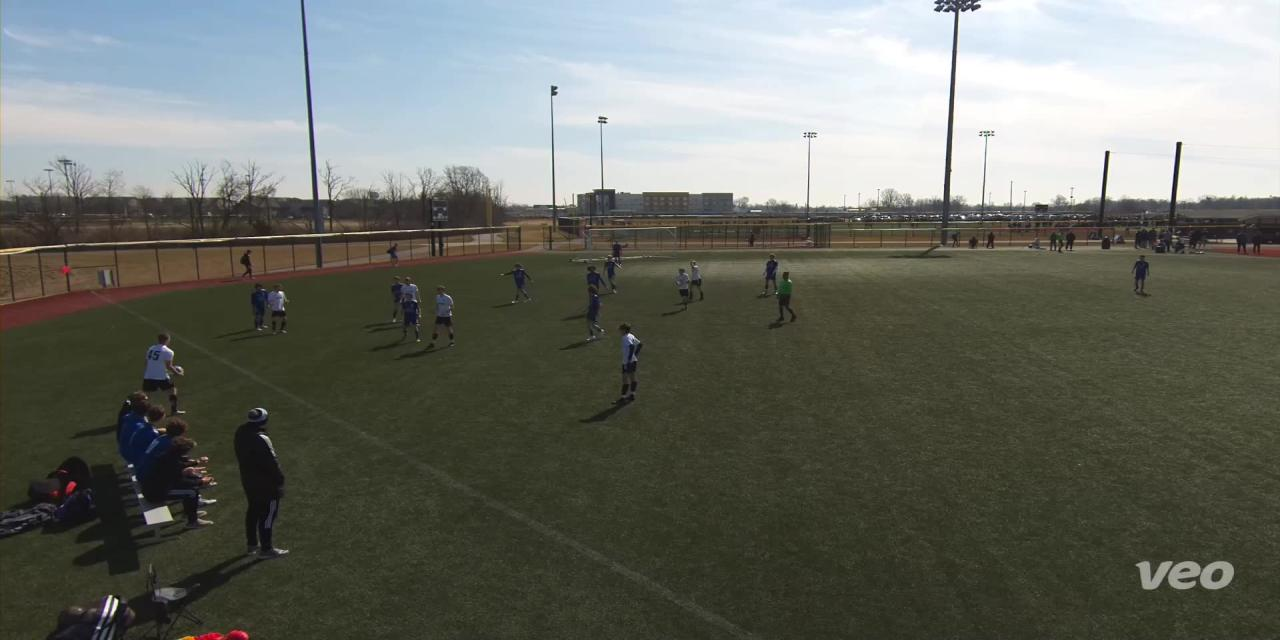goal: (569, 220, 689, 268)
